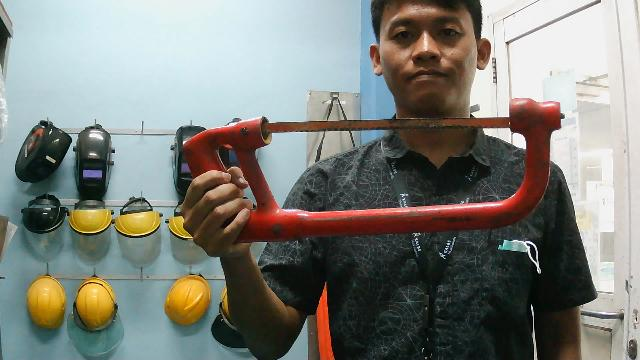gergaji_besi: (175, 89, 566, 245)
